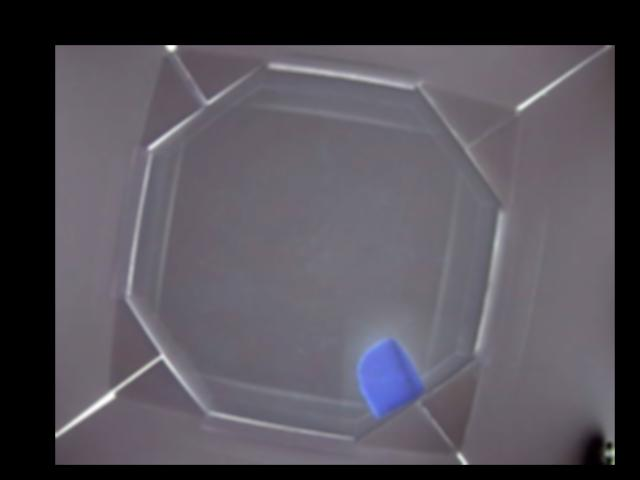Potato: (355, 339, 425, 415)
